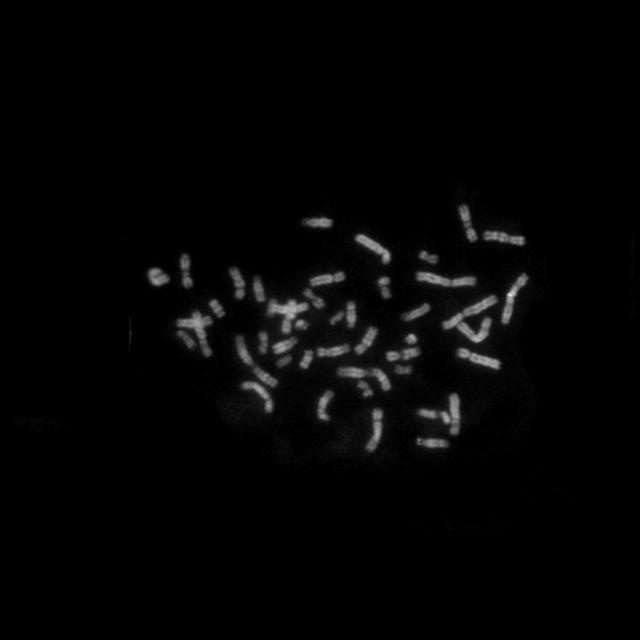chromosome: (236, 334, 278, 386), (442, 296, 498, 328), (502, 274, 528, 324), (338, 368, 390, 390), (356, 233, 392, 264), (192, 310, 214, 356), (241, 383, 274, 413), (456, 348, 500, 368), (458, 318, 492, 342), (417, 272, 475, 286), (366, 409, 384, 453), (459, 203, 477, 243), (485, 229, 525, 245), (356, 326, 376, 354), (311, 272, 345, 288), (282, 298, 296, 334), (414, 410, 450, 424), (400, 304, 430, 320), (305, 286, 325, 310), (318, 391, 334, 421), (386, 347, 419, 361), (176, 316, 214, 328), (270, 302, 308, 314), (231, 268, 245, 300), (181, 254, 194, 288), (450, 394, 460, 436), (272, 338, 298, 354), (318, 344, 350, 356), (302, 216, 332, 228), (149, 268, 169, 286), (178, 330, 196, 348), (417, 438, 449, 448), (253, 277, 265, 303), (380, 276, 392, 300), (346, 300, 356, 328), (393, 363, 413, 375), (210, 300, 225, 316), (258, 331, 268, 355), (300, 349, 312, 369), (276, 355, 292, 369), (266, 298, 276, 320), (330, 312, 344, 326), (421, 252, 437, 264), (360, 382, 372, 398), (294, 320, 308, 330), (407, 334, 418, 344)
